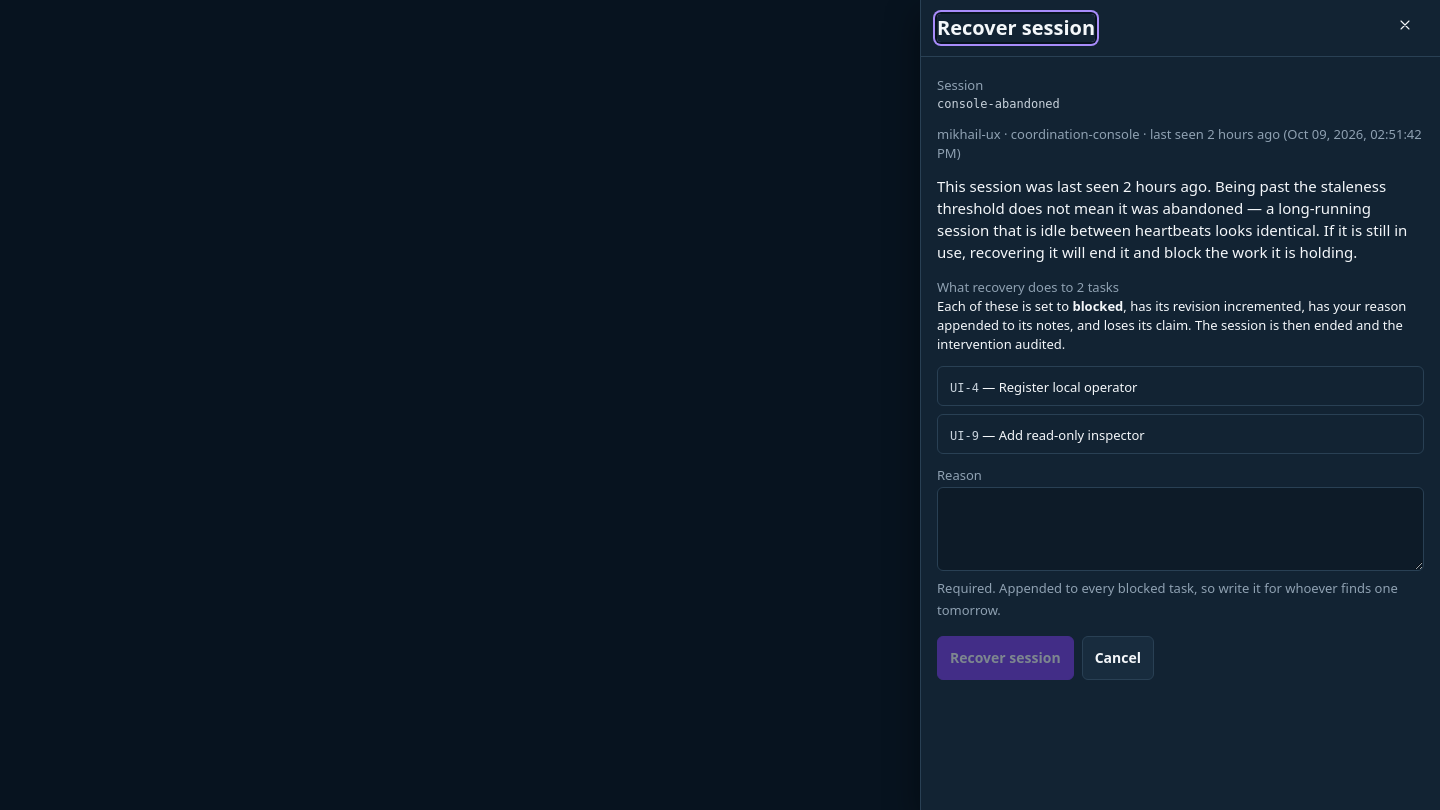
Test: SessionRecovery — outcomes › sends the actor and trimmed reason, then reports what was blocked
Type "  laptop closed overnight  " into the text box labelled "Reason" at (1180, 529), box [937, 487, 1424, 571]
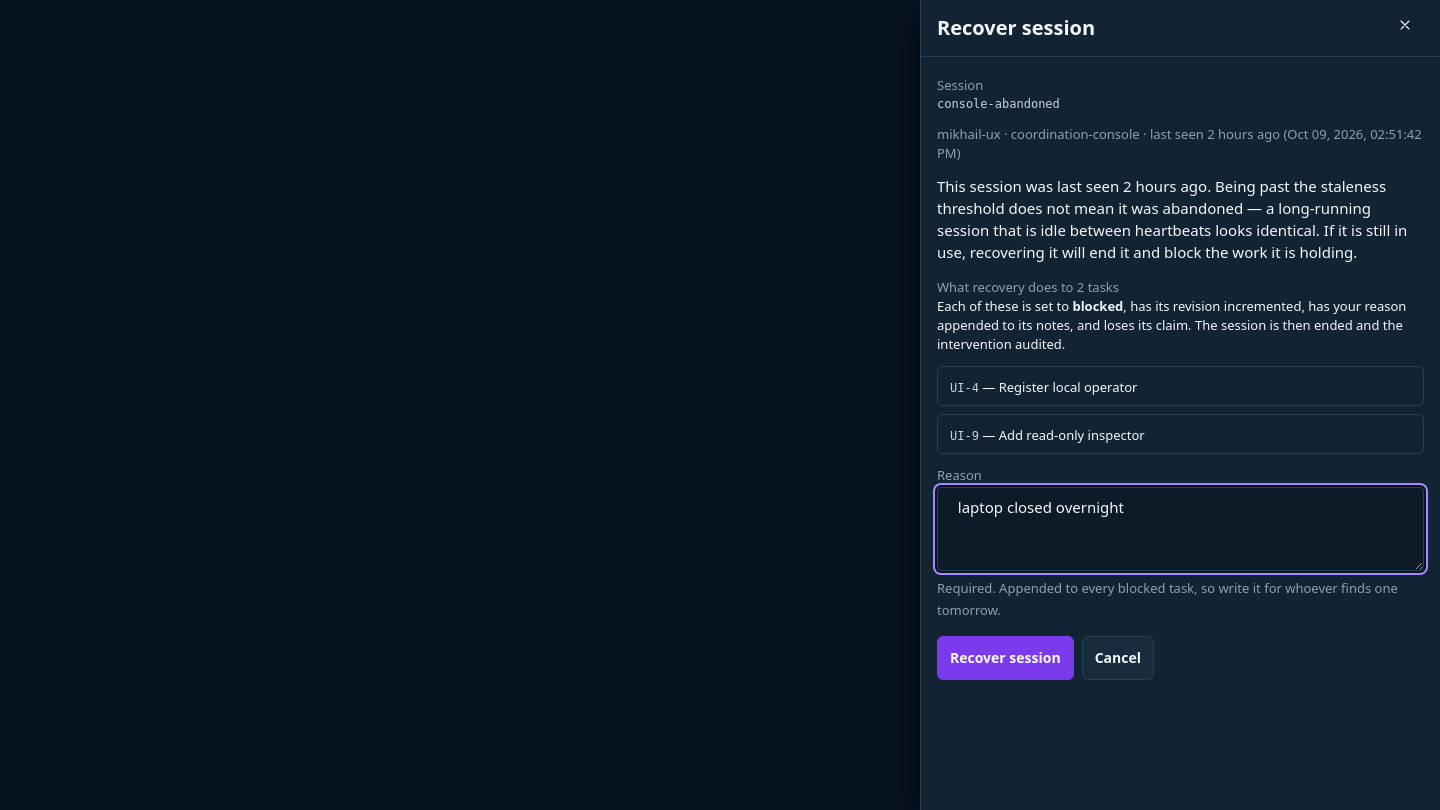
Click the button "Recover session" at (1005, 658), box [937, 636, 1074, 680]
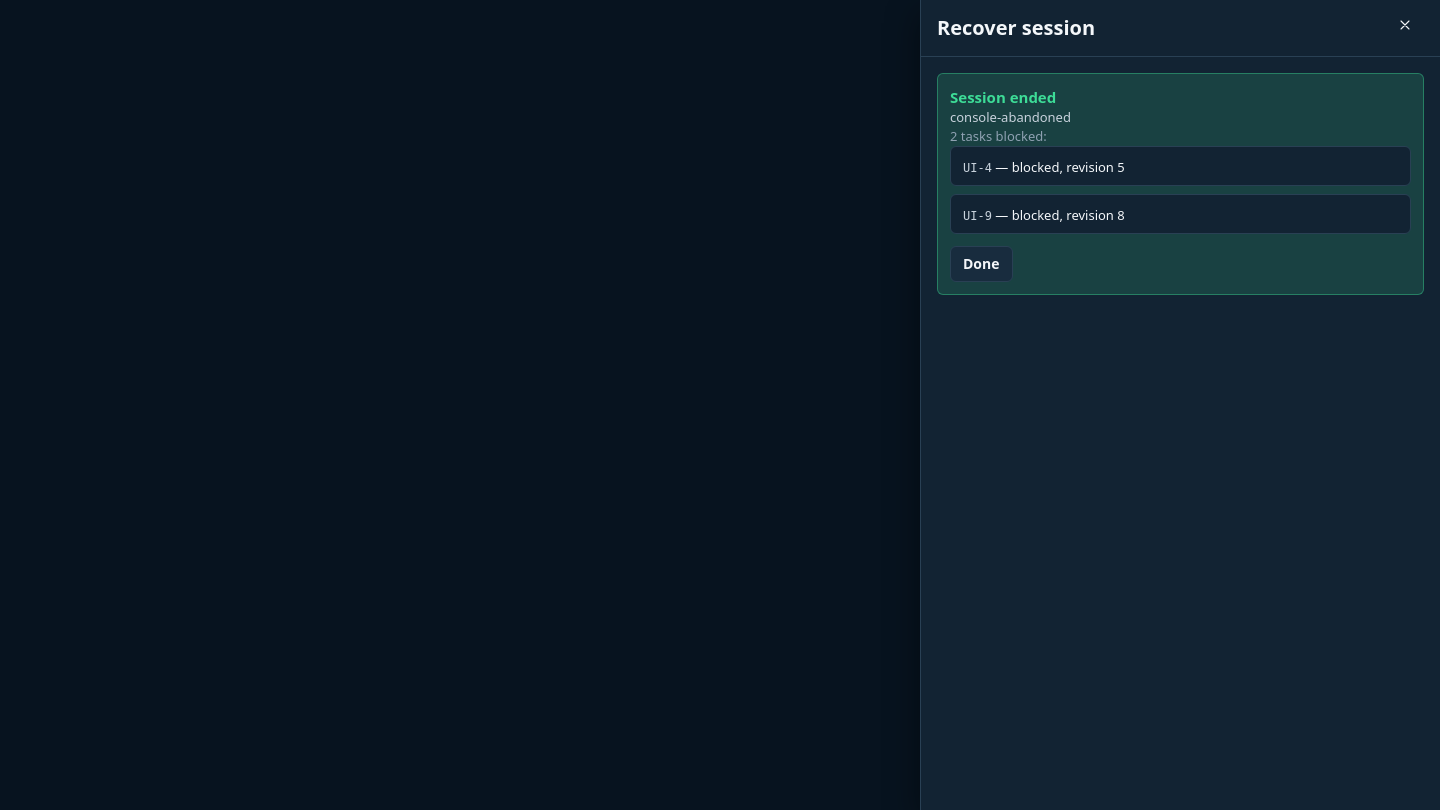
expect the message is shown: met, box [937, 73, 1424, 295]
expect the text "2 tasks blocked:" is shown: met, box [950, 127, 1047, 145]
expect the text "— blocked, revision 5" is shown: met, box [992, 158, 1125, 176]
